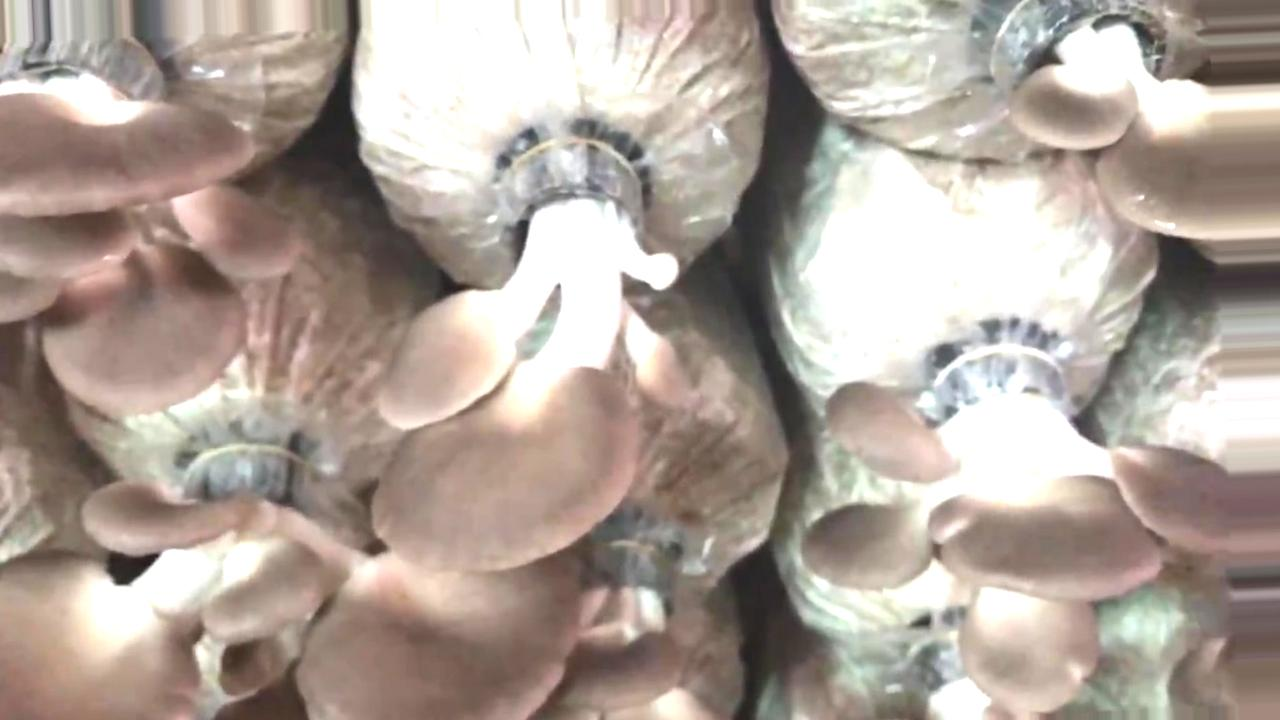nam: (805, 332, 1280, 709), (1, 421, 568, 719), (371, 130, 685, 570), (1, 32, 320, 414), (984, 4, 1280, 248), (529, 523, 700, 720), (956, 585, 1099, 714)
